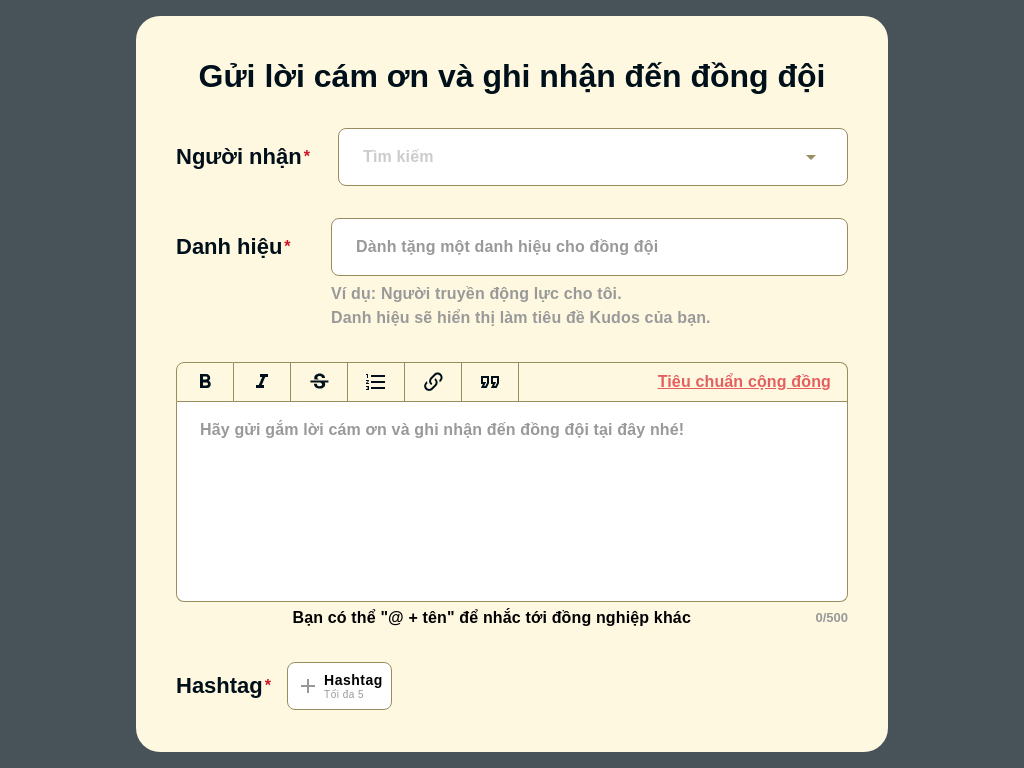
Scenario: WriteKudosModal › selects a recipient via autocomplete (TC ID-8/26)
Type "Huỳnh" into the field named "Người nhận" at point(577, 157), box 363,145 -> 791,169
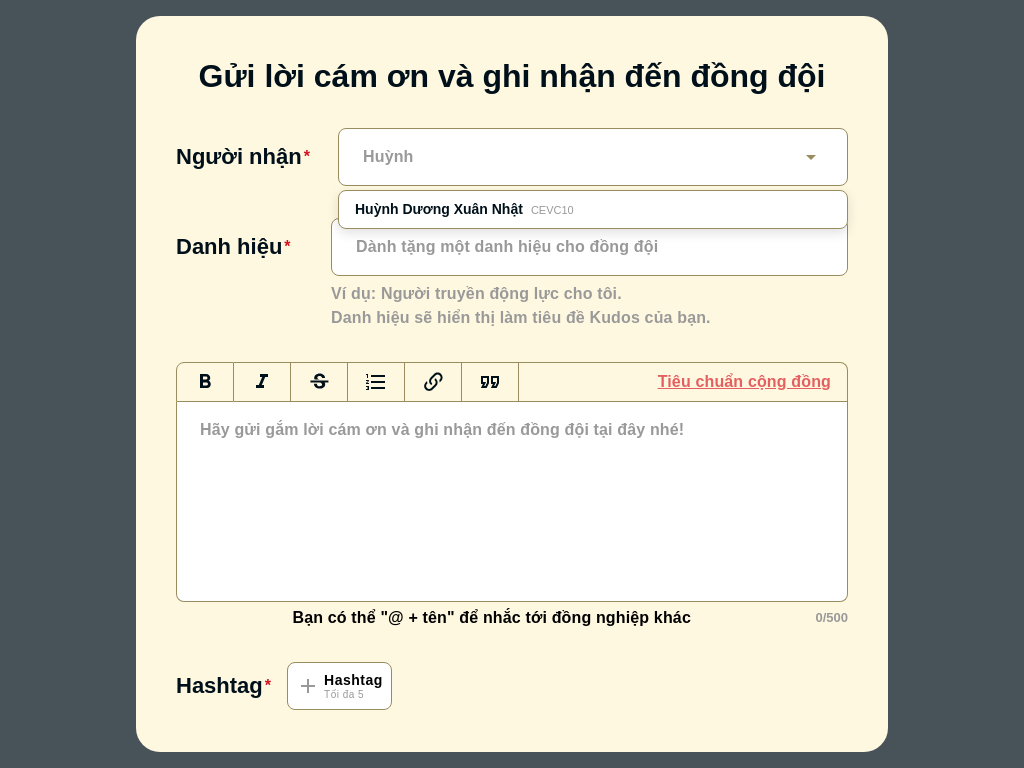
Click the button "Huỳnh Dương Xuân Nhật" at point(439, 209), box 339,191 -> 847,228
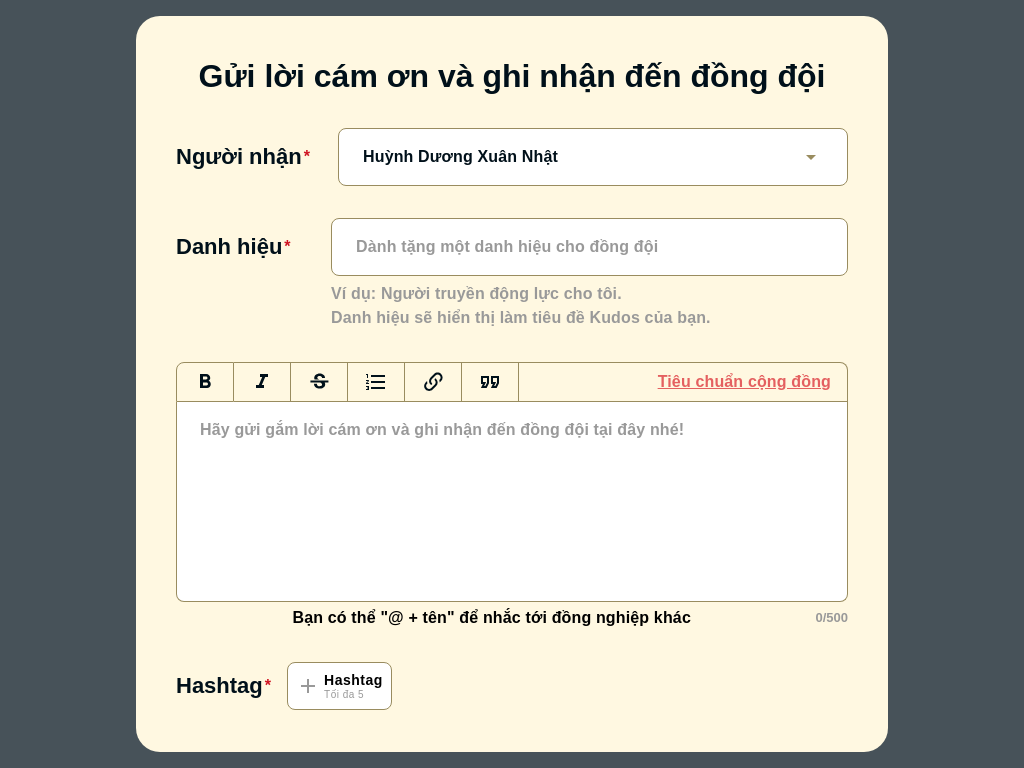
expect the field named "Người nhận" holds "Huỳnh Dương Xuân Nhật": met, box 363,145 -> 791,169
